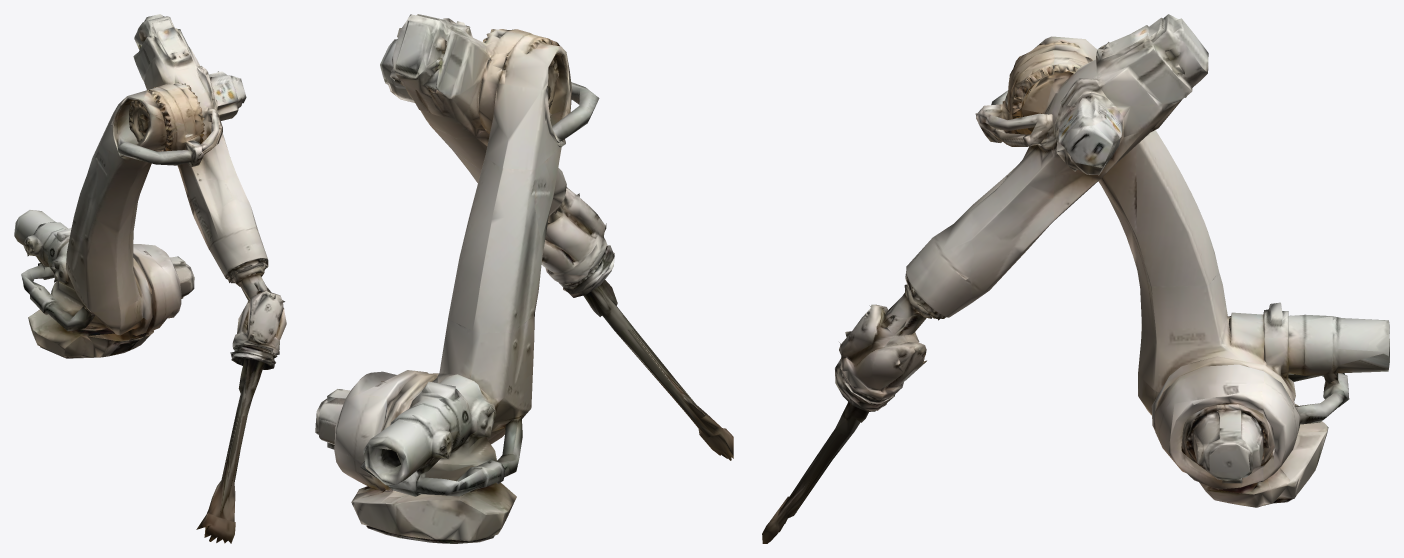
Rendered from technology-02.glb.
The picture shows the model from 3 angles, left to right: view 1: azimuth 30°, elevation 25°; view 2: azimuth 150°, elevation 25°; view 3: azimuth 270°, elevation 25°; orthographic projection. The views are drawn at different scales.
Size of the model in its own units: 0.4812 by 1.27 by 1.27.
1 material, 1 textured.
